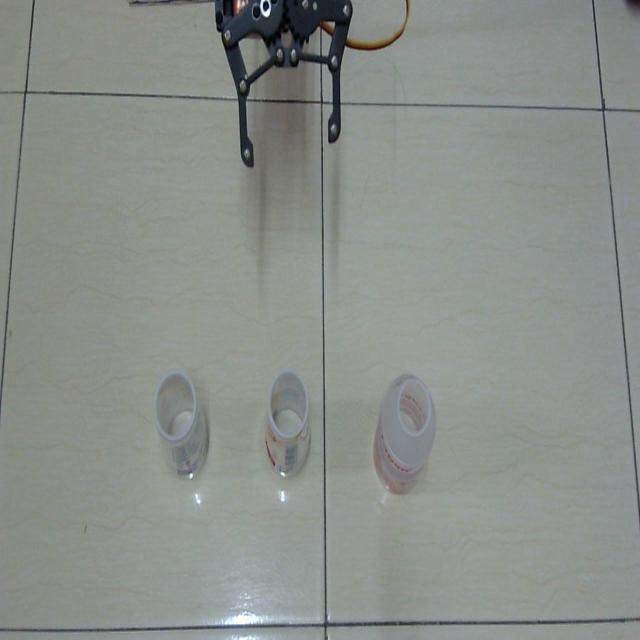Plastic-stand-rotation: (372, 364, 438, 506), (150, 361, 213, 481), (262, 366, 314, 486)
